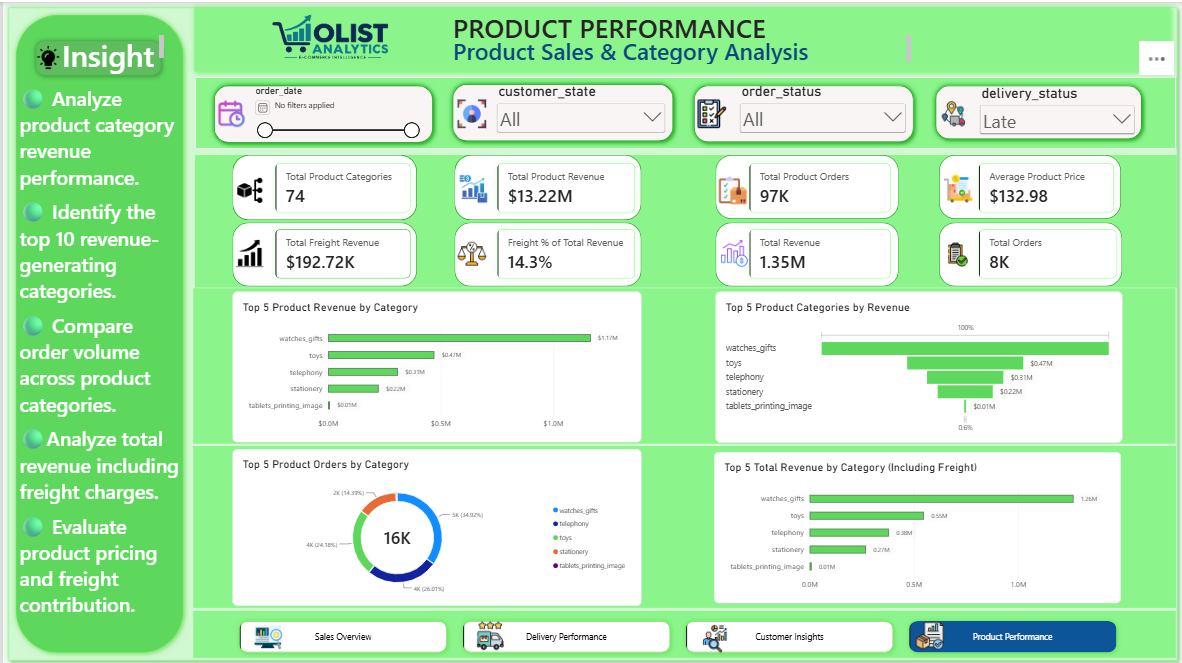

Layout of this report page (visuals, bound fields, positions):
{"tool":"powerbi","page":{"name":"Product Performance","canvas":[1920,1080],"ordinal":3},"visuals":[{"type":"shape","box":[0.9,0,1919.1,1080],"z":0},{"type":"shape","box":[303.3,0,1605,121.7],"z":1000},{"type":"textbox","box":[732,13.2,758.5,66.2],"z":2000},{"type":"textbox","box":[732,53,745.2,46.4],"z":3000},{"type":"shape","box":[311.2,122.5,1596.9,116.2],"z":4000},{"type":"shape","box":[311.2,248.1,1596.9,215.6],"z":5000},{"type":"shape","box":[311,467,1597,252],"z":6000},{"type":"shape","box":[310,723,1598,263],"z":7000},{"type":"shape","box":[310,990,1597.5,75.8],"z":8000},{"type":"shape","box":[374,250,300,106],"z":9000},{"type":"shape","box":[374,358,300,104],"z":10000},{"type":"shape","box":[734,250,304,106],"z":11000},{"type":"shape","box":[734,358,304,104],"z":12000},{"type":"shape","box":[1158,250,298,104],"z":13000},{"type":"shape","box":[1158,358,298,104],"z":14000},{"type":"shape","box":[1522,250,296,104],"z":15000},{"type":"shape","box":[1522,358,298,104],"z":16000},{"type":"cardVisual","fields":{"Data":["Ecommerce.Total Product Categories"]},"box":[432,252,242,102],"z":17000},{"type":"cardVisual","fields":{"Data":["Ecommerce.Total Product Revenue"]},"box":[792,252,246,102],"z":18000},{"type":"cardVisual","fields":{"Data":["Ecommerce.Total Product Orders"]},"box":[1204,252,252,102],"z":19000},{"type":"cardVisual","fields":{"Data":["Ecommerce.Average Product Price"]},"box":[1576,252,242,102],"z":20000},{"type":"cardVisual","fields":{"Data":["Ecommerce.Total Freight Revenue"]},"box":[432,358,242,102],"z":21000},{"type":"cardVisual","fields":{"Data":["Ecommerce.Freight % of Total Revenue"]},"box":[792,358,246,102],"z":22000},{"type":"cardVisual","fields":{"Data":["Ecommerce.Total Revenue"]},"box":[1204,358,252,102],"z":23000},{"type":"cardVisual","fields":{"Data":["Ecommerce.Total Orders"]},"box":[1576,358,246,102],"z":24000},{"type":"clusteredBarChart","title":"Top 5 Product Revenue by Category","fields":{"Category":["olist_ecommerce powerbi_category_sales.category"],"Y":["Ecommerce.Total Product Revenue"]},"box":[372.5,470,665,245],"z":25000},{"type":"funnel","title":"Top 5 Product Categories by Revenue","fields":{"Category":["olist_ecommerce powerbi_category_sales.category"],"Y":["Ecommerce.Total Product Revenue"]},"box":[1158,470,662,246],"z":26000},{"type":"donutChart","title":"Top 5 Product Orders by Category","fields":{"Category":["olist_ecommerce powerbi_category_sales.category"],"Y":["Ecommerce.Total Product Orders"]},"box":[372.5,727.5,665,255],"z":27000},{"type":"clusteredBarChart","title":"Top 5 Total Revenue by Category (Including Freight)","fields":{"Category":["olist_ecommerce powerbi_category_sales.category"],"Y":["Ecommerce.Total Revenue by Category"]},"box":[1157.1,731.4,662,246],"z":28000},{"type":"image","box":[1158,386,61.7,46.7],"z":29000},{"type":"image","box":[372,282,61.7,46.7],"z":30000},{"type":"image","box":[370,386,61.7,46.7],"z":31000},{"type":"image","box":[734,280,61.7,46.7],"z":32000},{"type":"image","box":[732,386,61.7,46.7],"z":33000},{"type":"image","box":[1156,282,61.7,46.7],"z":34000},{"type":"image","box":[1522,280,62,46],"z":35000},{"type":"image","box":[1522,388,62,46],"z":36000},{"type":"shape","box":[335,126,373.8,110.8],"z":37000},{"type":"shape","box":[723,125,376.9,110.8],"z":38000},{"type":"shape","box":[1116,126,375,110],"z":39000},{"type":"shape","box":[1509,128,353.3,105],"z":40000},{"type":"slicer","fields":{"Values":["Ecommerce.customer_state"]},"box":[798,132,284,96],"z":41000},{"type":"slicer","fields":{"Values":["Ecommerce.order_status"]},"box":[1194,132,280,104],"z":42000},{"type":"slicer","fields":{"Values":["Ecommerce.delivery_status"]},"box":[1584,134,262,104],"z":43000},{"type":"image","box":[731.7,158.3,61.7,46.7],"z":44000},{"type":"image","box":[1515,158.3,61.7,46.7],"z":45000},{"type":"image","box":[1123.3,158.3,61.7,46.7],"z":46000},{"type":"image","box":[340,158.3,61.7,46.7],"z":47000},{"type":"slicer","fields":{"Values":["Ecommerce.order_date"]},"box":[401.7,133.3,278.3,95],"z":48000},{"type":"pageNavigator","box":[375,997.5,1445,69.2],"z":49000},{"type":"image","box":[400.8,1010.2,62.9,46.4],"z":50000},{"type":"image","box":[761.8,1006.9,62.9,46.4],"z":51000},{"type":"image","box":[1126,1012,61.7,46.7],"z":52000},{"type":"image","box":[1477.2,1006.9,62.9,46.4],"z":53000},{"type":"image","box":[313.3,0,440,113.3],"z":54000},{"type":"shape","box":[12.5,12.5,290,1055],"z":55000},{"type":"textbox","box":[26,134,264,896],"z":56000},{"type":"shape","box":[44.4,52.8,222.2,75],"z":57000},{"type":"image","box":[54,56,40,67.3],"z":58000},{"type":"textbox","box":[95.3,52.7,166.7,69.3],"z":59000}]}

Visuals, with their boxes in screenshot pixels (x1, y1, x2, y2), scaled from the page's 1920x1080 canvas onto the 1182x663 screenshot:
shape: box(1, 0, 1181, 662)
shape: box(187, 0, 1175, 75)
textbox: box(451, 8, 918, 49)
textbox: box(451, 33, 909, 61)
shape: box(192, 75, 1175, 147)
shape: box(192, 152, 1175, 285)
shape: box(191, 287, 1175, 441)
shape: box(191, 444, 1175, 605)
shape: box(191, 608, 1174, 654)
shape: box(230, 153, 415, 219)
shape: box(230, 220, 415, 284)
shape: box(452, 153, 639, 219)
shape: box(452, 220, 639, 284)
shape: box(713, 153, 896, 217)
shape: box(713, 220, 896, 284)
shape: box(937, 153, 1119, 217)
shape: box(937, 220, 1120, 284)
cardVisual - Ecommerce.Total Product Categories: box(266, 155, 415, 217)
cardVisual - Ecommerce.Total Product Revenue: box(488, 155, 639, 217)
cardVisual - Ecommerce.Total Product Orders: box(741, 155, 896, 217)
cardVisual - Ecommerce.Average Product Price: box(970, 155, 1119, 217)
cardVisual - Ecommerce.Total Freight Revenue: box(266, 220, 415, 282)
cardVisual - Ecommerce.Freight % of Total Revenue: box(488, 220, 639, 282)
cardVisual - Ecommerce.Total Revenue: box(741, 220, 896, 282)
cardVisual - Ecommerce.Total Orders: box(970, 220, 1122, 282)
"Top 5 Product Revenue by Category" clusteredBarChart: box(229, 289, 639, 439)
"Top 5 Product Categories by Revenue" funnel: box(713, 289, 1120, 440)
"Top 5 Product Orders by Category" donutChart: box(229, 447, 639, 603)
"Top 5 Total Revenue by Category (Including Freight)" clusteredBarChart: box(712, 449, 1120, 600)
image: box(713, 237, 751, 266)
image: box(229, 173, 267, 202)
image: box(228, 237, 266, 266)
image: box(452, 172, 490, 201)
image: box(451, 237, 489, 266)
image: box(712, 173, 750, 202)
image: box(937, 172, 975, 200)
image: box(937, 238, 975, 266)
shape: box(206, 77, 436, 145)
shape: box(445, 77, 677, 145)
shape: box(687, 77, 918, 145)
shape: box(929, 79, 1146, 143)
slicer - Ecommerce.customer_state: box(491, 81, 666, 140)
slicer - Ecommerce.order_status: box(735, 81, 907, 145)
slicer - Ecommerce.delivery_status: box(975, 82, 1136, 146)
image: box(450, 97, 488, 126)
image: box(933, 97, 971, 126)
image: box(692, 97, 730, 126)
image: box(209, 97, 247, 126)
slicer - Ecommerce.order_date: box(247, 82, 419, 140)
pageNavigator: box(231, 612, 1120, 655)
image: box(247, 620, 285, 649)
image: box(469, 618, 508, 647)
image: box(693, 621, 731, 650)
image: box(909, 618, 948, 647)
image: box(193, 0, 464, 70)
shape: box(8, 8, 186, 655)
textbox: box(16, 82, 179, 632)
shape: box(27, 32, 164, 78)
image: box(33, 34, 58, 76)
textbox: box(59, 32, 161, 75)
